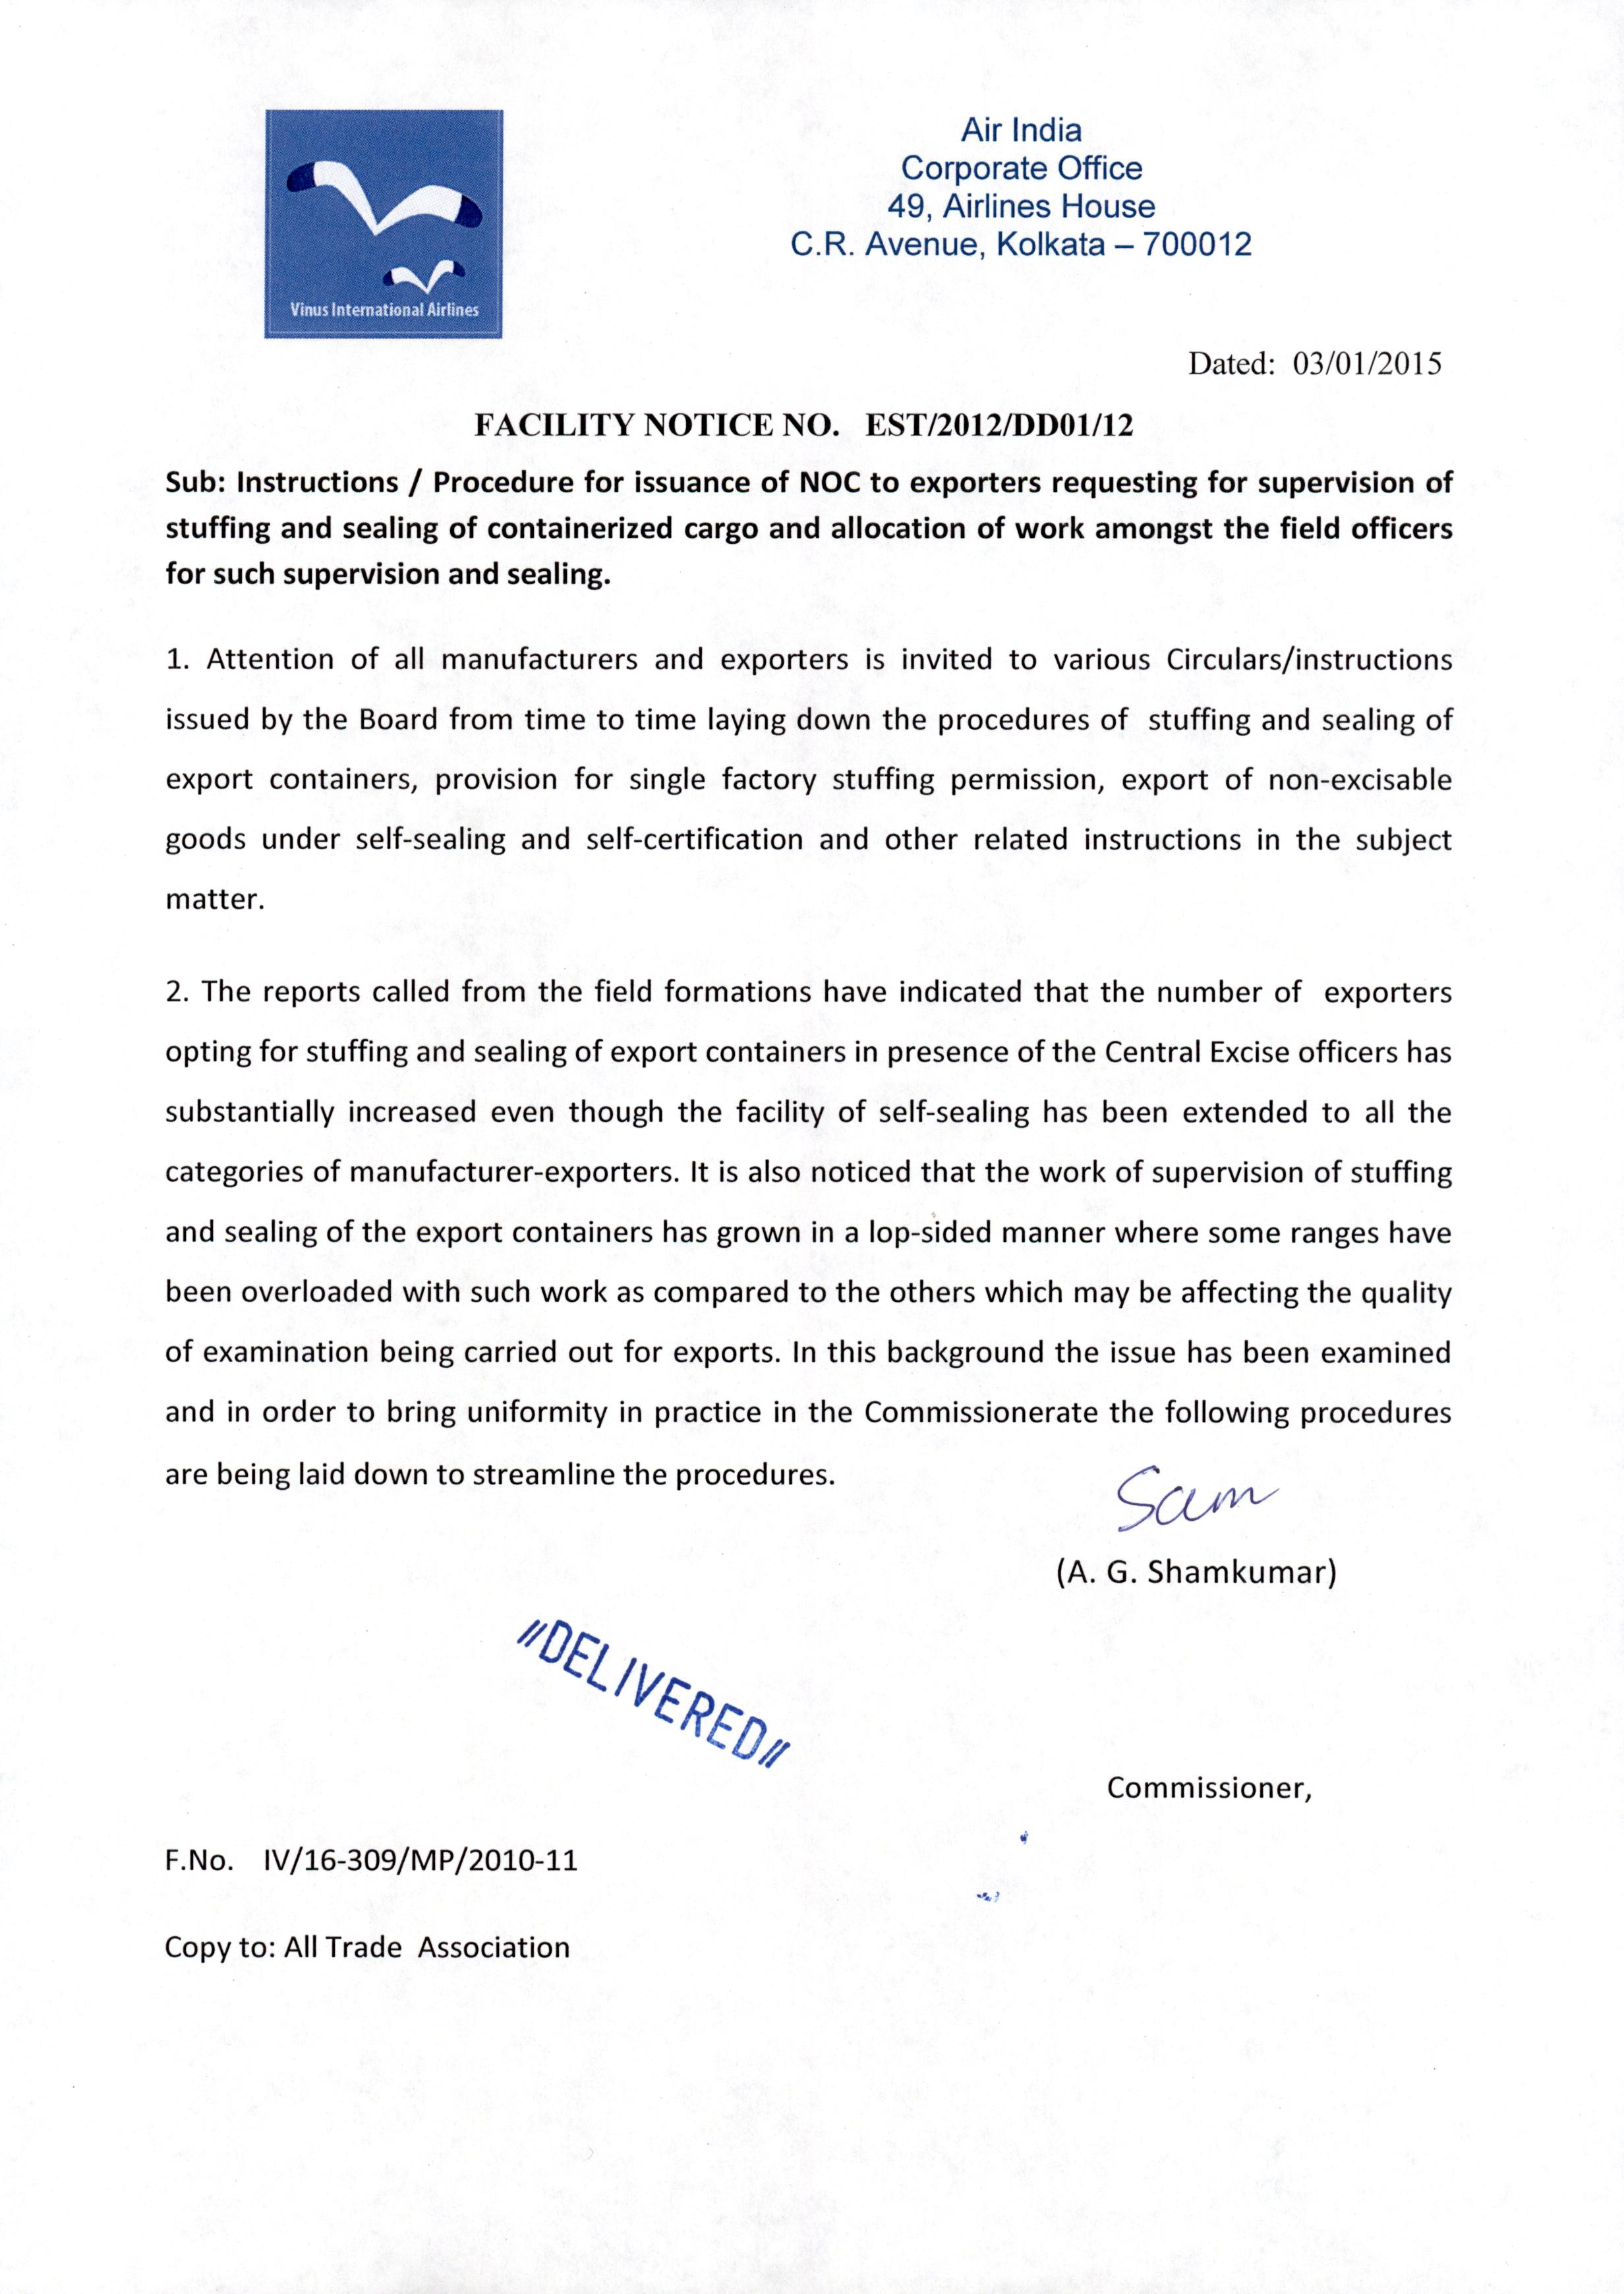Signature: (1102, 1456, 1281, 1536)
